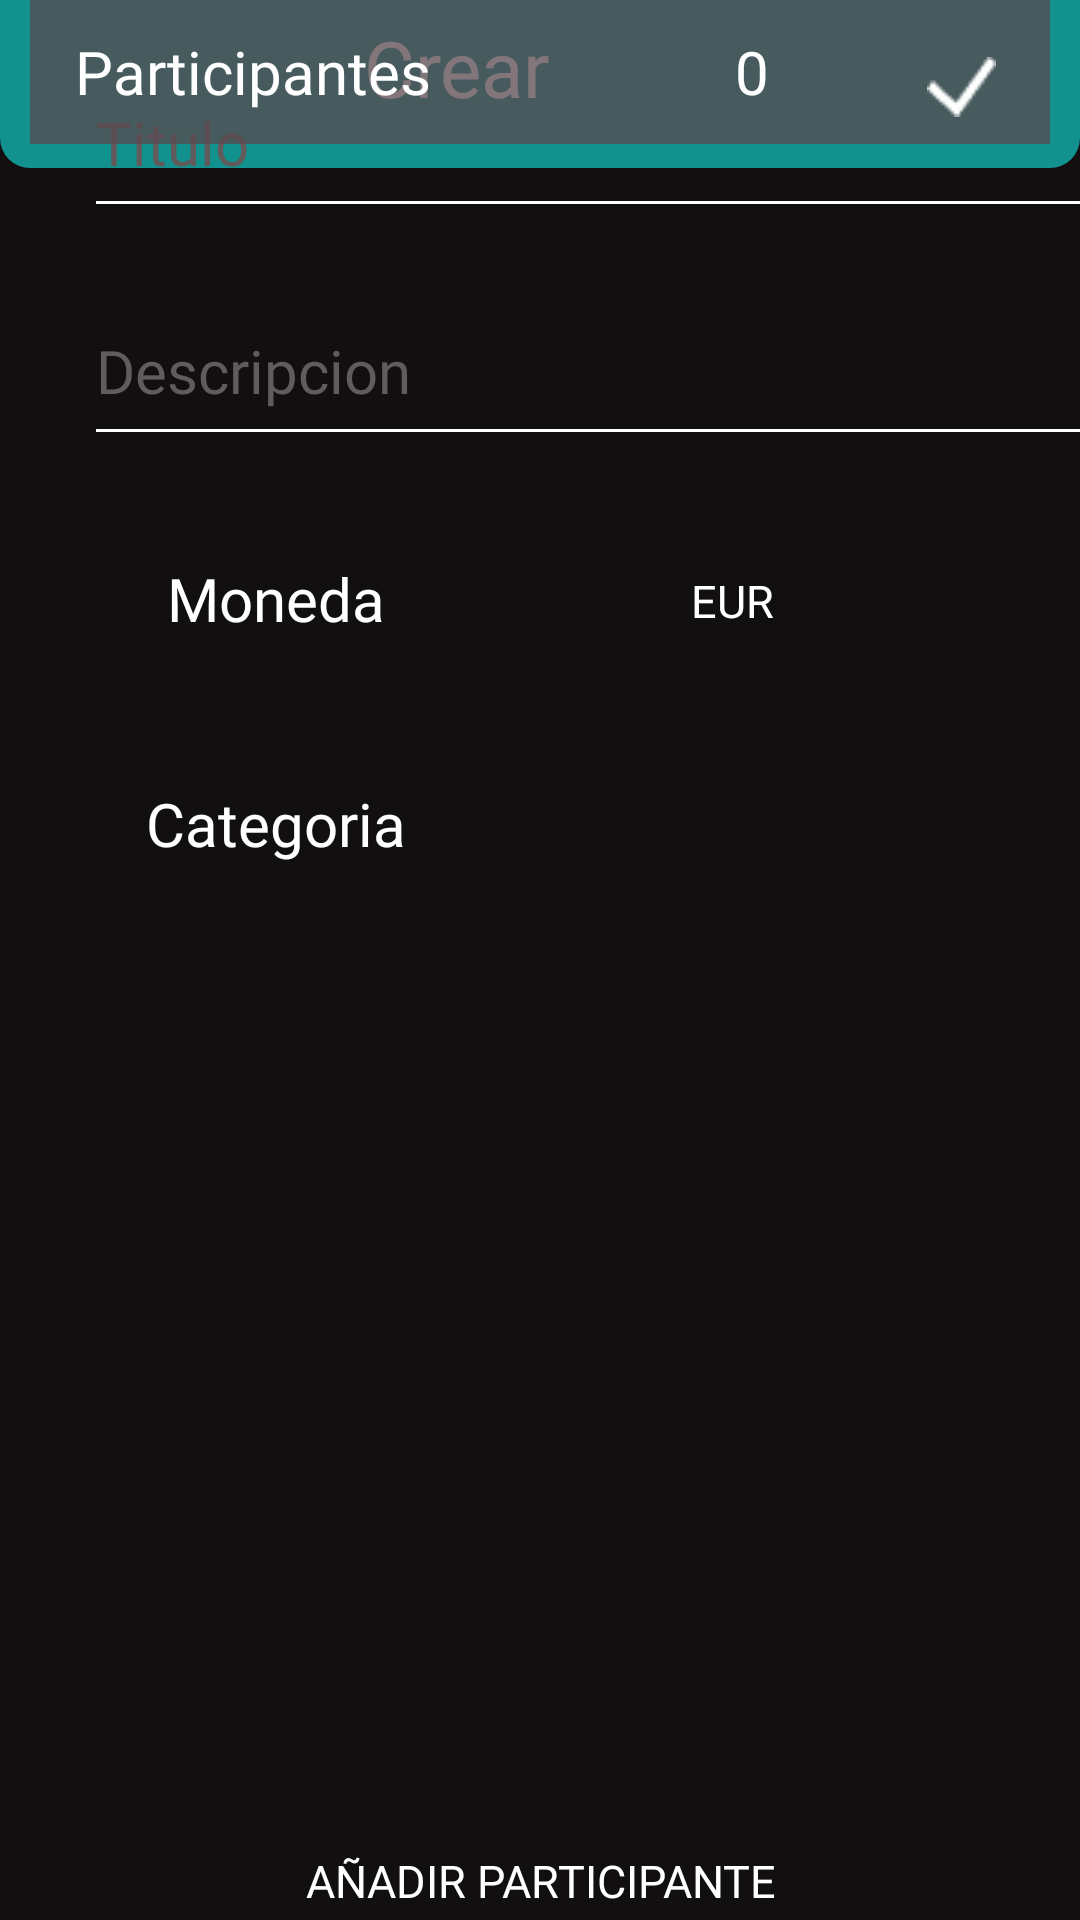

Where to tap for icons on this 1080 x 1920 app screen, as [x,y]:
confirmar: [961,87]
